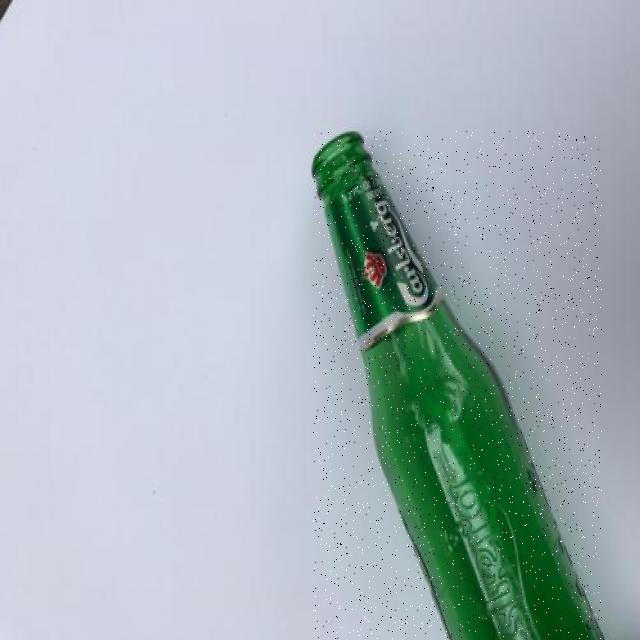glass: (313, 132, 602, 639)
